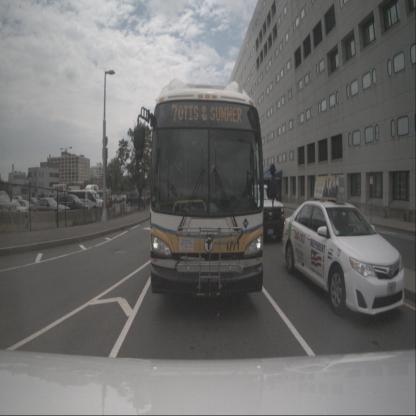barrier: (26, 212, 58, 232), (0, 211, 25, 233), (56, 210, 80, 228), (75, 209, 93, 225), (90, 208, 102, 223), (100, 208, 110, 220), (107, 207, 116, 220)
